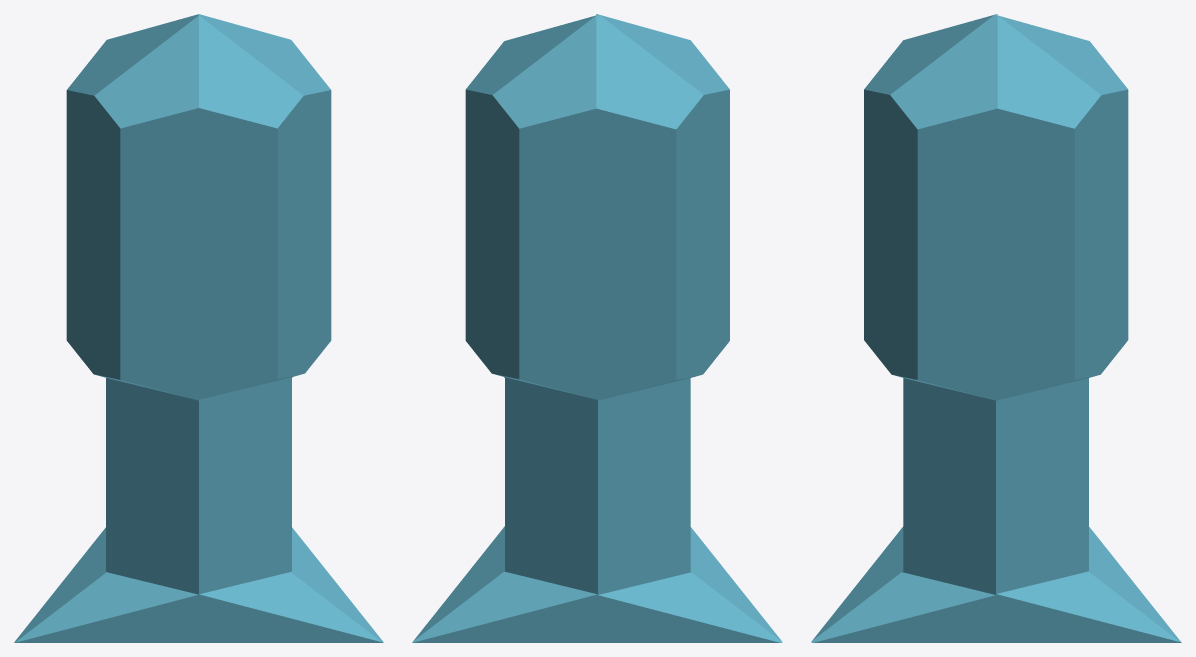
The model's file is Fate Game Piece V4 Moonstone.glb.
The picture shows the model from 3 angles, left to right: view 1: azimuth 30°, elevation 25°; view 2: azimuth 150°, elevation 25°; view 3: azimuth 270°, elevation 25°; orthographic projection.
Visible parts, largest first — view 1: Solid1; view 2: Solid1; view 3: Solid1.
Part boxes in pixels (bbox=[...]): Solid1: bbox=[14, 14, 383, 642]; Solid1: bbox=[412, 14, 782, 642]; Solid1: bbox=[811, 14, 1181, 642].
Bounding box in the file's own units: 0.019 × 0.0381 × 0.022.
